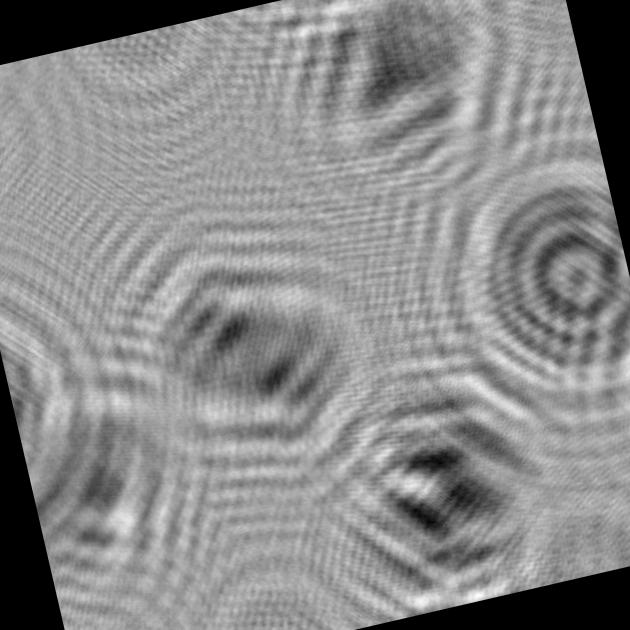L: (4, 327, 229, 628)
Q: (425, 149, 630, 444)
V: (248, 0, 549, 237)
W: (291, 349, 564, 630)
Z: (88, 209, 418, 526)
